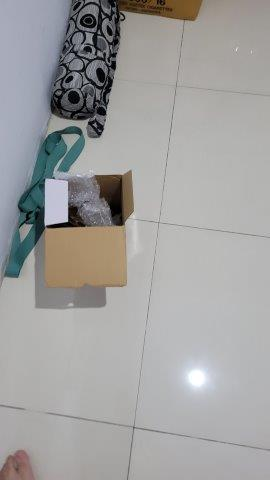kardus: (44, 171, 136, 286)
